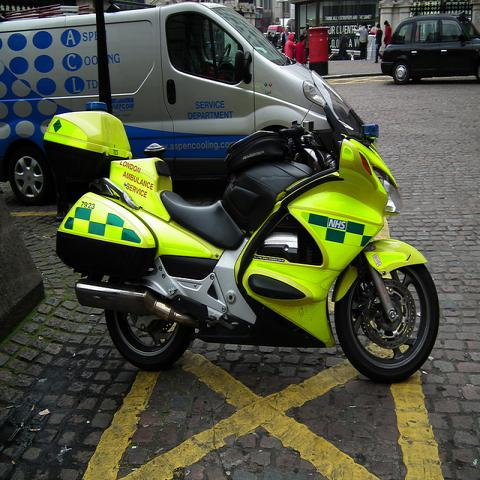car: (1, 3, 327, 206), (380, 11, 480, 85), (263, 25, 281, 40)
motorcycle: (46, 78, 441, 382)
truck: (0, 3, 364, 212)
